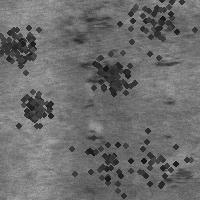rolled-in_scale: (98, 107, 200, 200), (104, 0, 200, 69), (64, 119, 144, 199), (72, 10, 115, 141), (83, 47, 135, 99), (0, 16, 45, 74), (13, 87, 53, 127), (160, 161, 195, 189)
